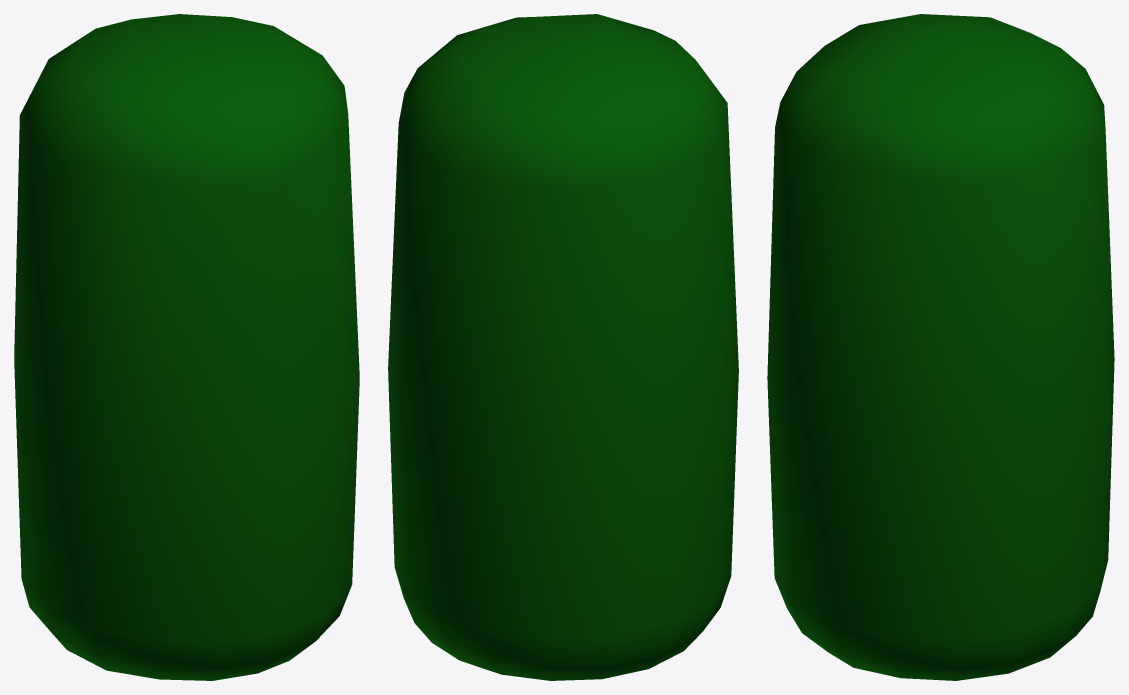
The model's file is meat04.FBX.
3 renders of one model, left to right at view 1: azimuth 30°, elevation 25°; view 2: azimuth 150°, elevation 25°; view 3: azimuth 270°, elevation 25°, orthographic.
Parts seen in each view (by area): view 1: SM_meat04_0; view 2: SM_meat04_0; view 3: SM_meat04_0.
Boxes of the visible parts, <box> form: SM_meat04_0: <box>14,14,359,680</box>; SM_meat04_0: <box>388,14,738,680</box>; SM_meat04_0: <box>767,14,1114,680</box>.
Size of the model in its own units: 15.94 by 15.97 by 30.85.
